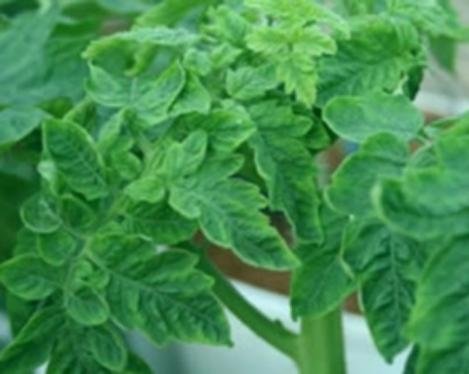Tomato leaf mosaic virus: (148, 157, 300, 277), (91, 234, 240, 351), (301, 13, 431, 108), (247, 96, 324, 241), (356, 228, 424, 365), (40, 112, 113, 203), (321, 91, 423, 150), (175, 102, 265, 152), (126, 58, 191, 127), (3, 252, 66, 305)
